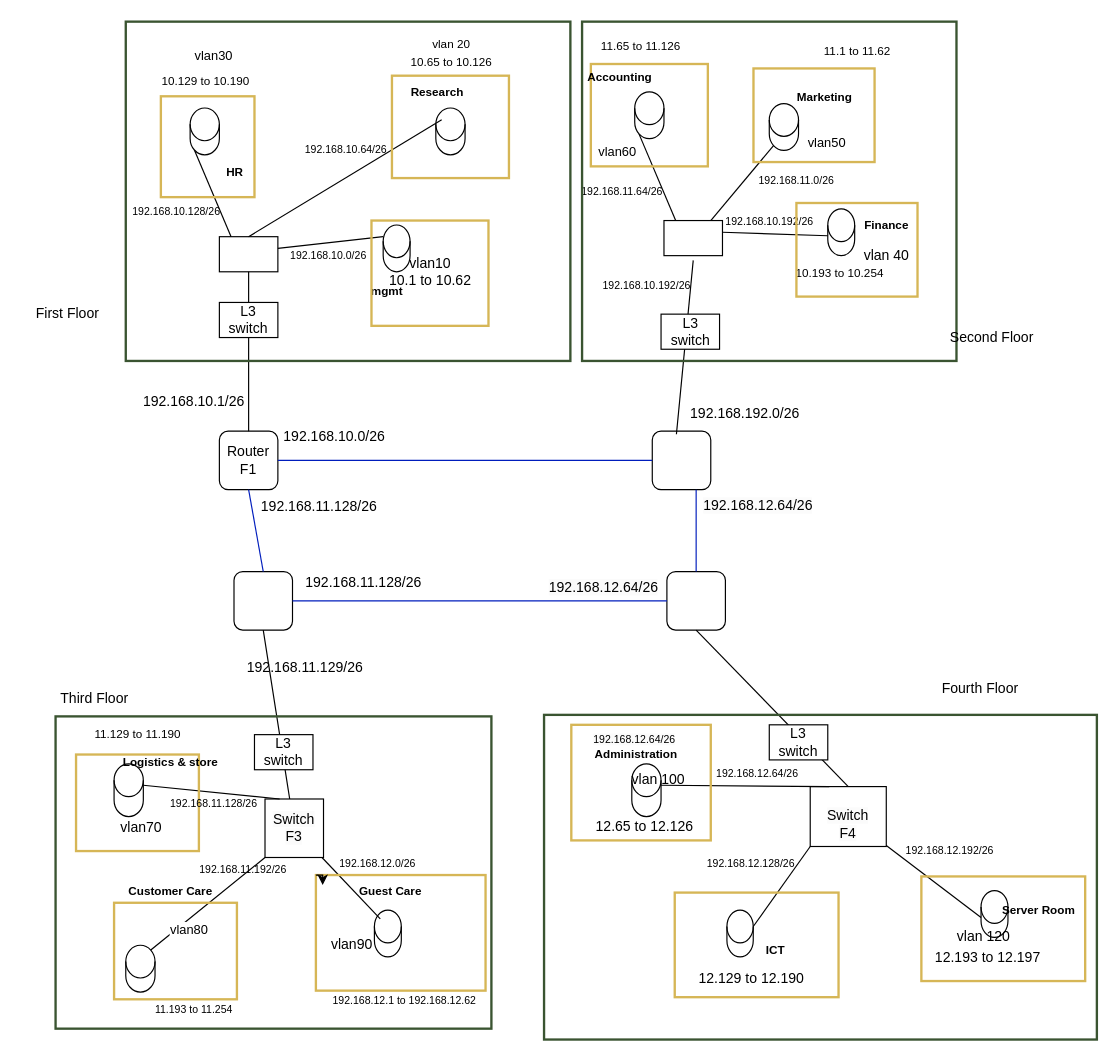
Image size: 1117x1060. Some labels were removed from this diagram. The shapes that lost their labels are listed below. From the top down, each one's box as (x1, y1, x2, y2) in pixels, then its label:
(218, 236, 278, 272): Switch F1
(663, 219, 722, 256): Switch F2
(651, 430, 711, 490): Router F2
(233, 570, 292, 630): Router F3
(666, 570, 725, 630): Router F4
